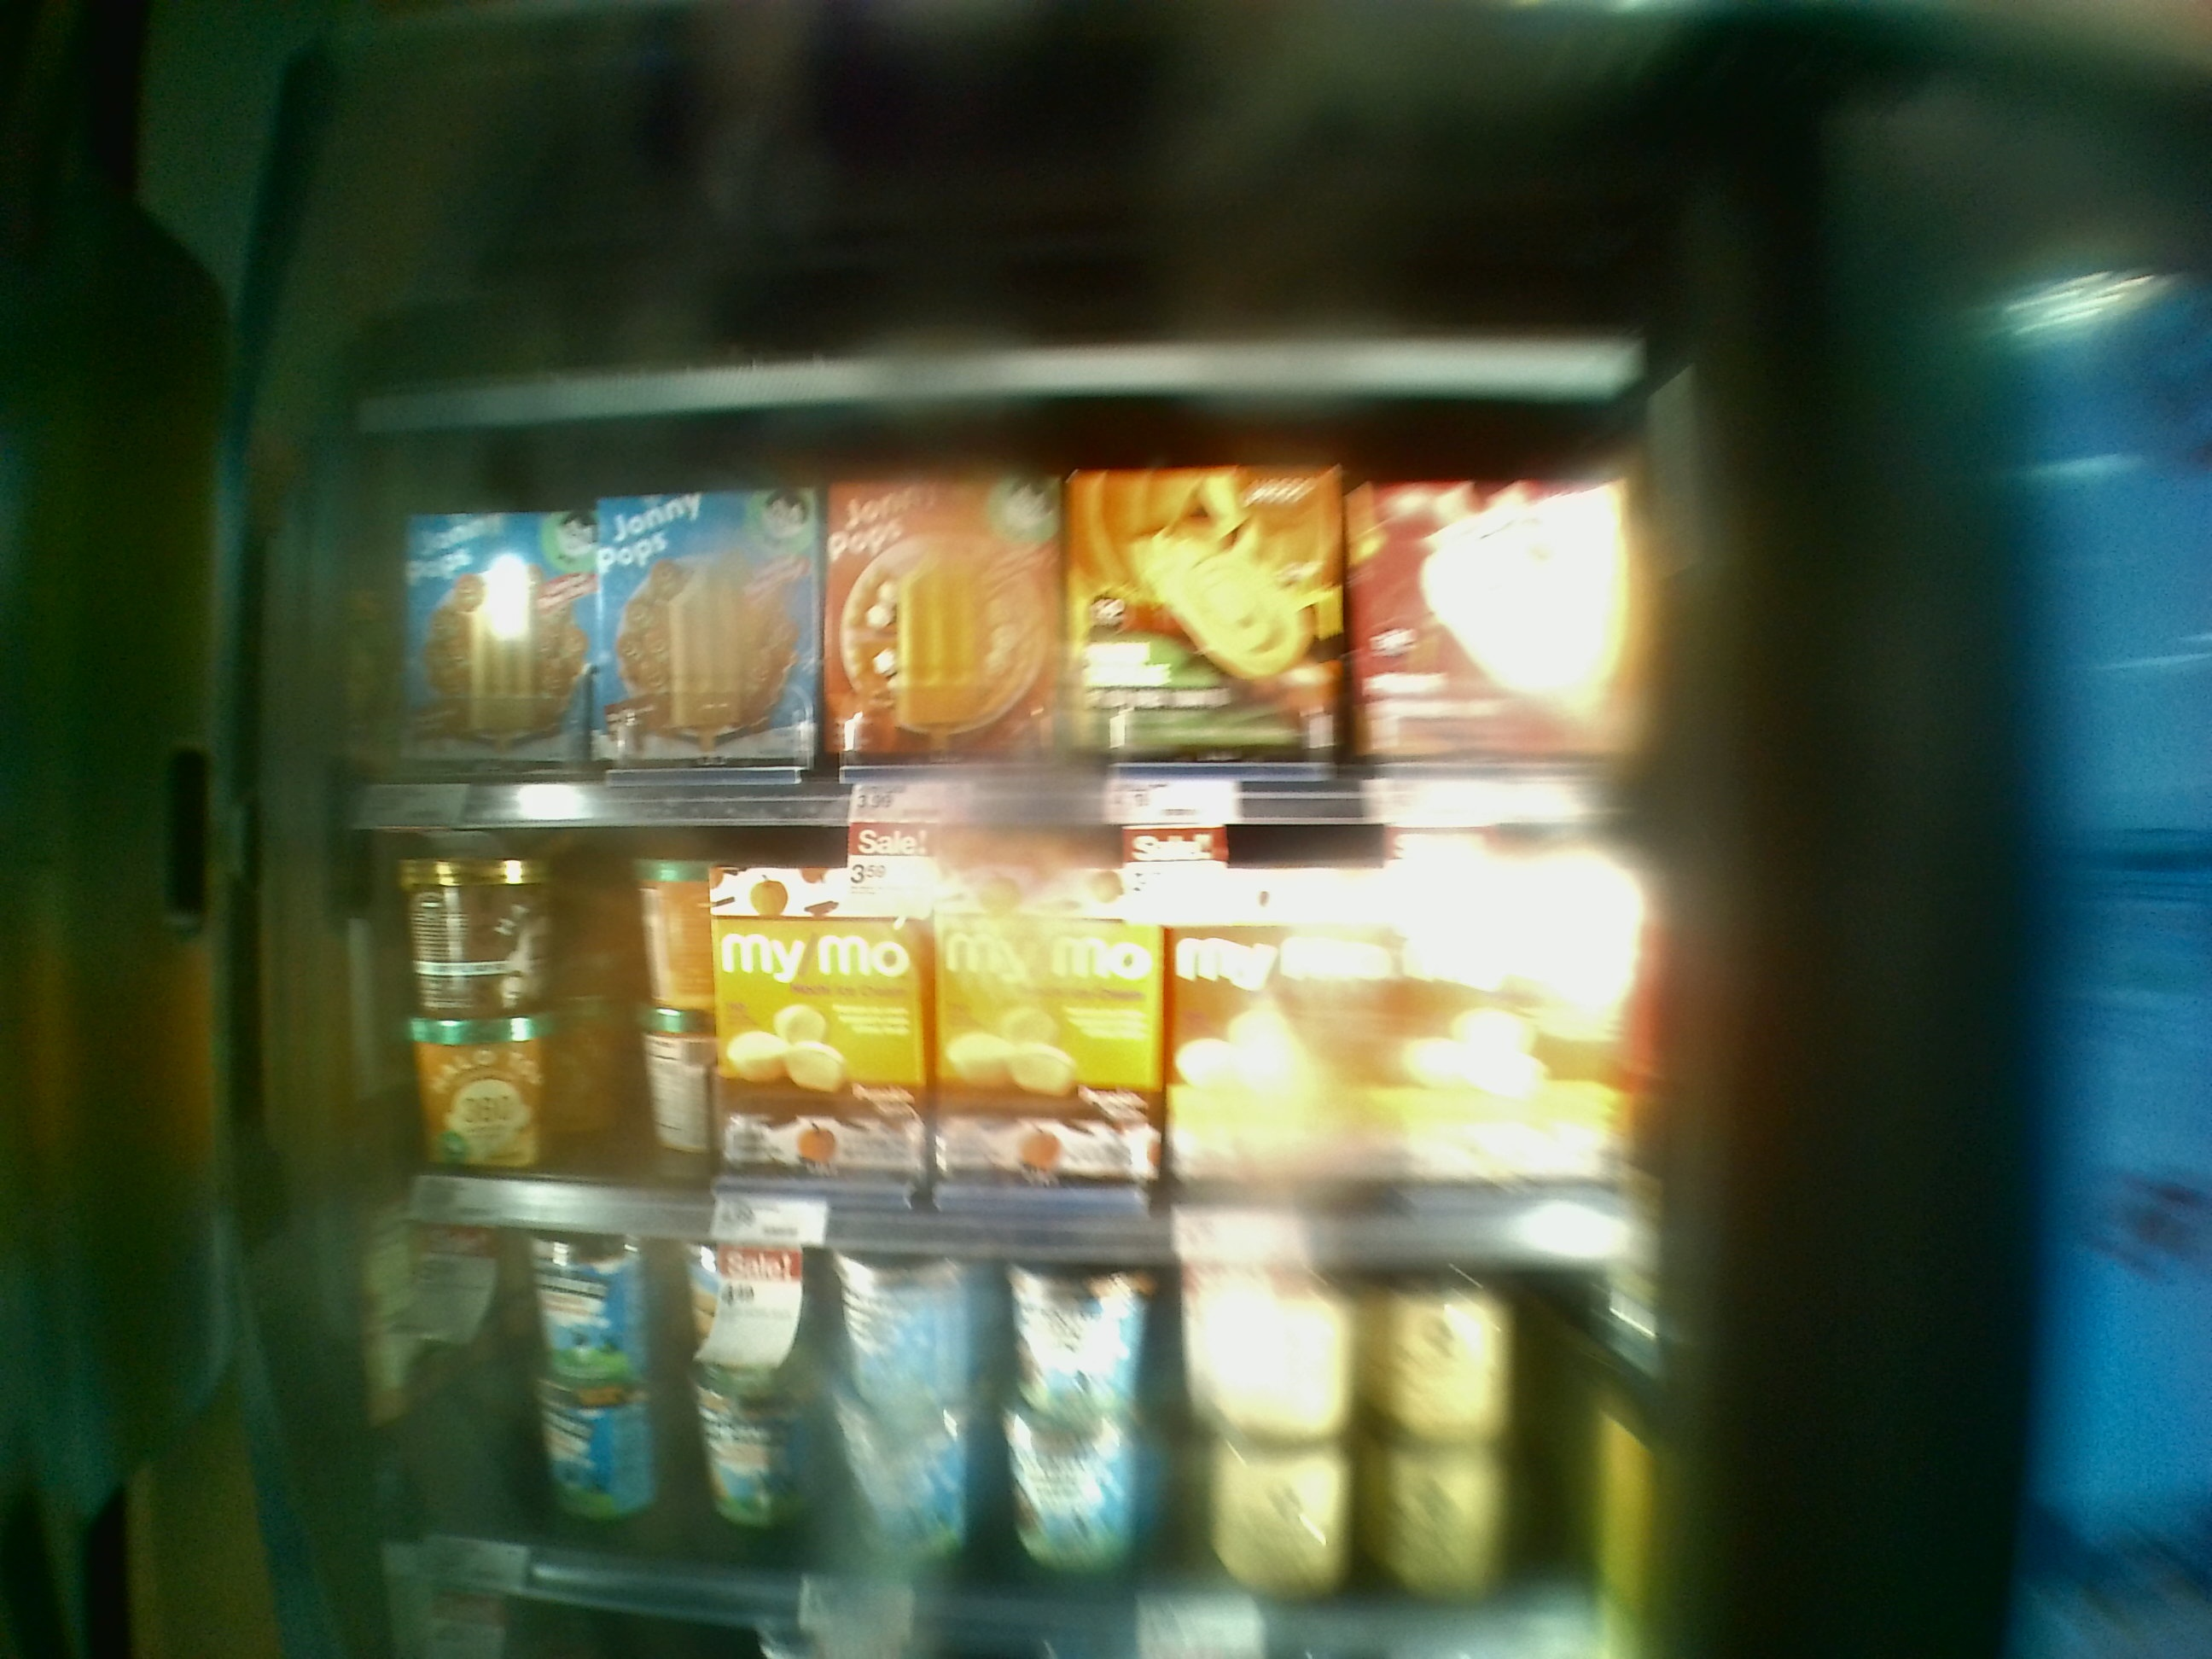shelf: (333, 835, 1644, 1277), (347, 406, 1649, 828)
